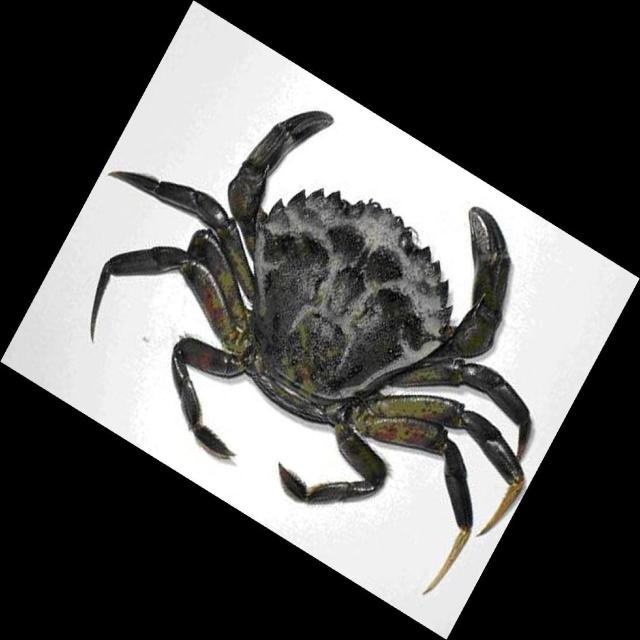European Green crab: (90, 111, 532, 593)
